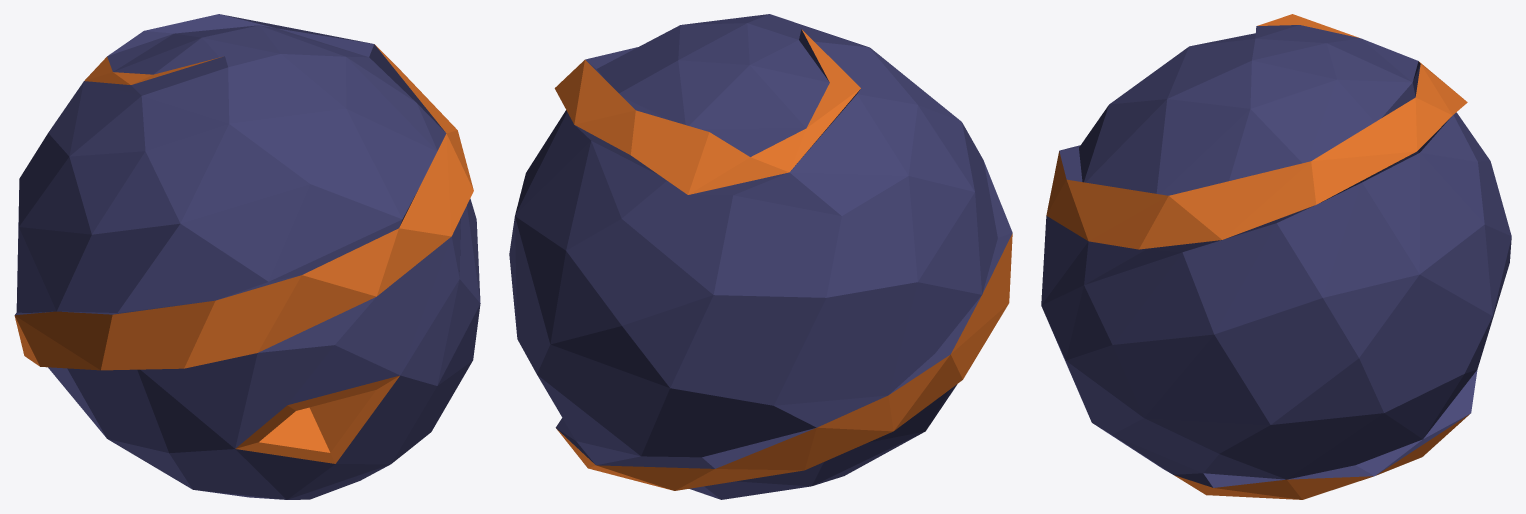
File: Planet11.fbx
3 renders of one model, left to right at view 1: azimuth 30°, elevation 25°; view 2: azimuth 150°, elevation 25°; view 3: azimuth 270°, elevation 25°, orthographic. The views are drawn at different scales.
Visible parts, largest first — view 1: Planet11; view 2: Planet11; view 3: Planet11.
Boxes of the visible parts, x1,y1,x2,y2 form: Planet11: (14, 14, 480, 499); Planet11: (509, 14, 1012, 499); Planet11: (1041, 14, 1511, 499).
Size of the model in its own units: 11.12 by 11.24 by 11.4.
